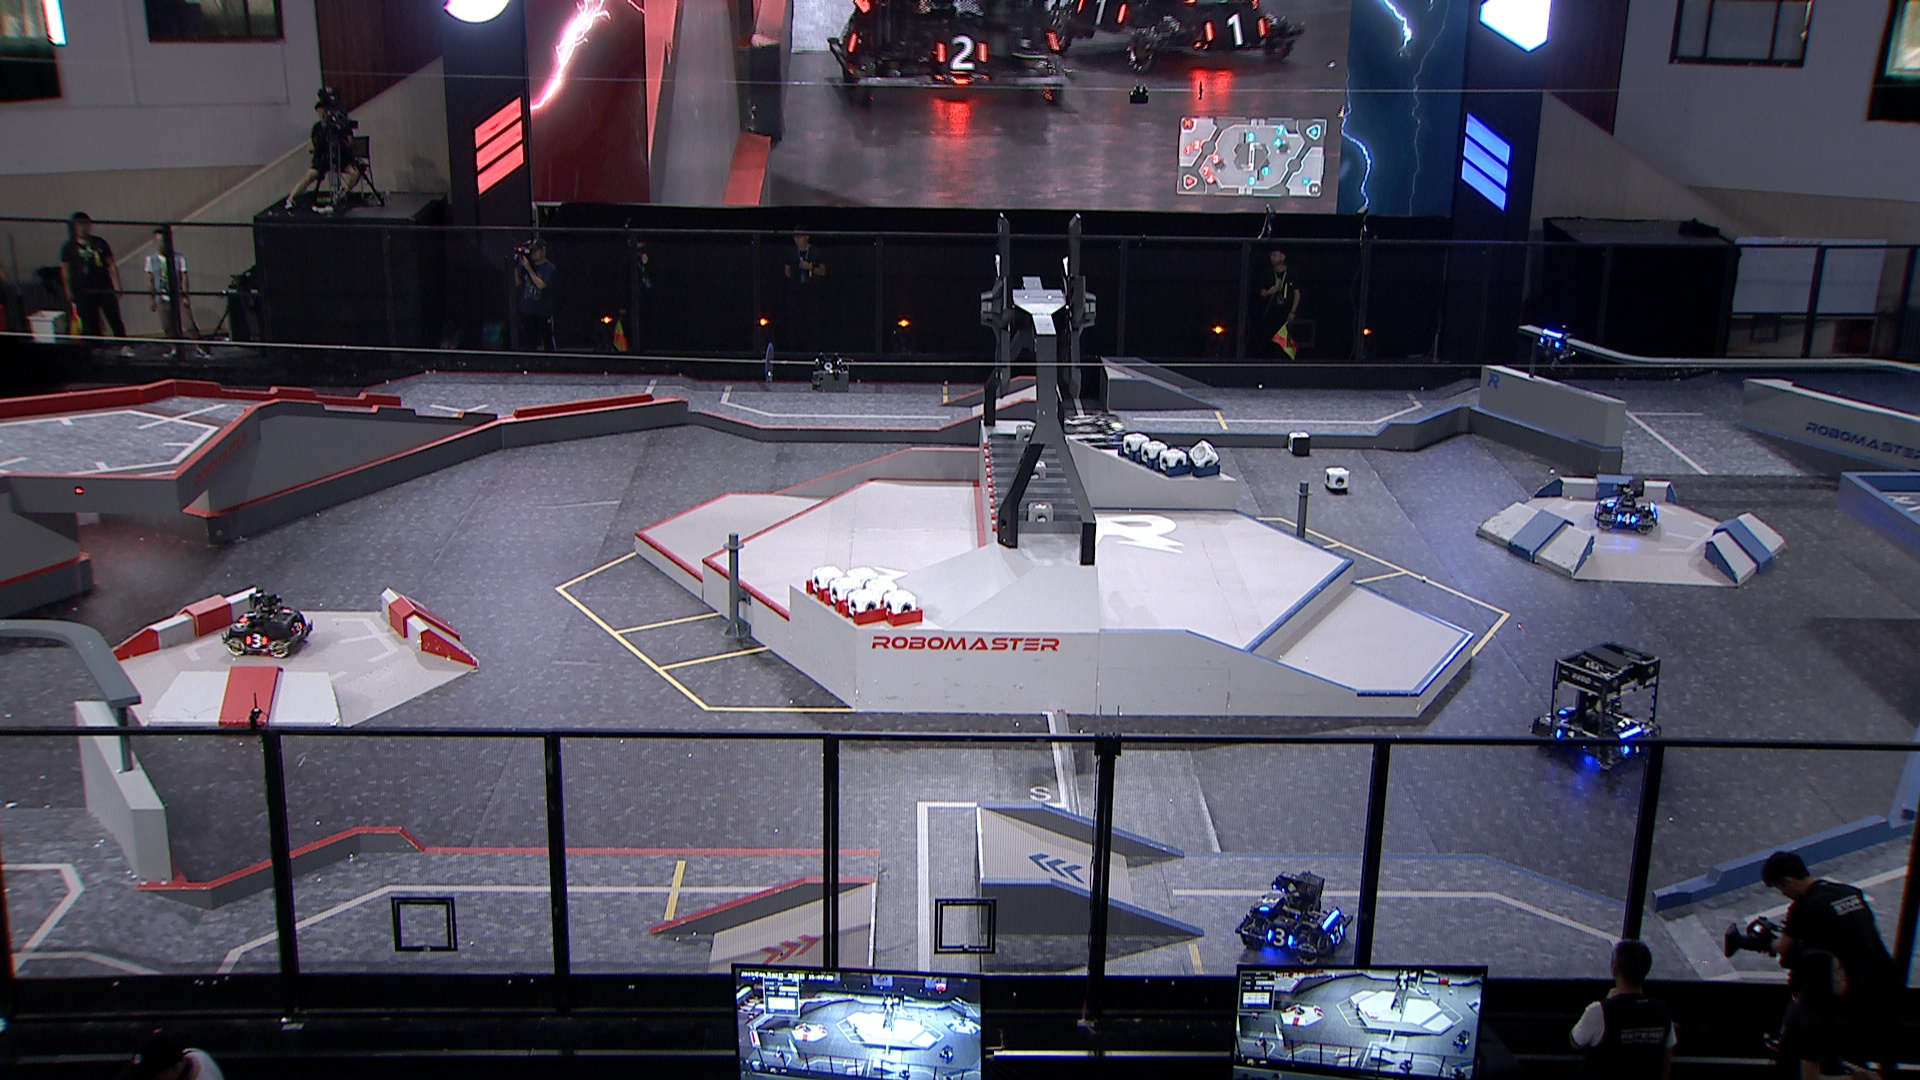armor: (1265, 926, 1295, 949), (1255, 894, 1282, 915), (1329, 924, 1346, 948), (1614, 512, 1640, 526), (243, 633, 266, 647), (1538, 335, 1561, 348), (237, 608, 256, 622), (291, 618, 305, 638)
car: (1528, 642, 1662, 773), (1233, 869, 1356, 971), (219, 589, 314, 659), (1058, 411, 1135, 493), (1593, 477, 1658, 535)
ignore: (1050, 0, 1307, 73)
watcher: (1536, 324, 1577, 372)
